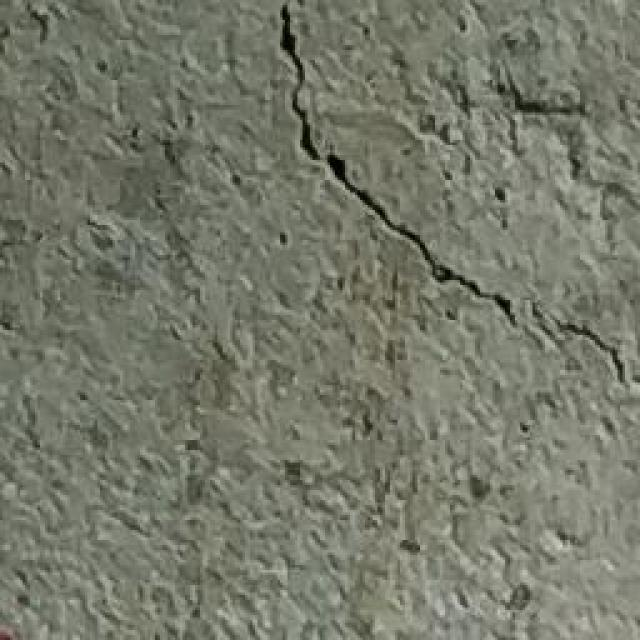Diagonal: (254, 0, 640, 386)
